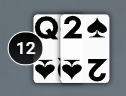2: (59, 12, 85, 42)
q: (31, 12, 61, 43)
